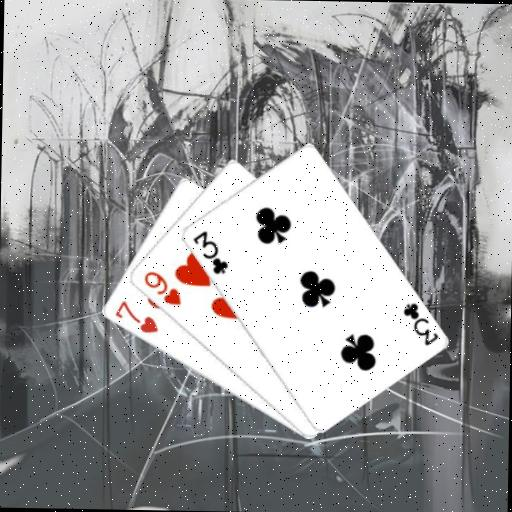3C: (399, 299, 441, 348), (189, 227, 230, 276)
7H: (111, 297, 160, 335)
9H: (140, 268, 183, 308)
